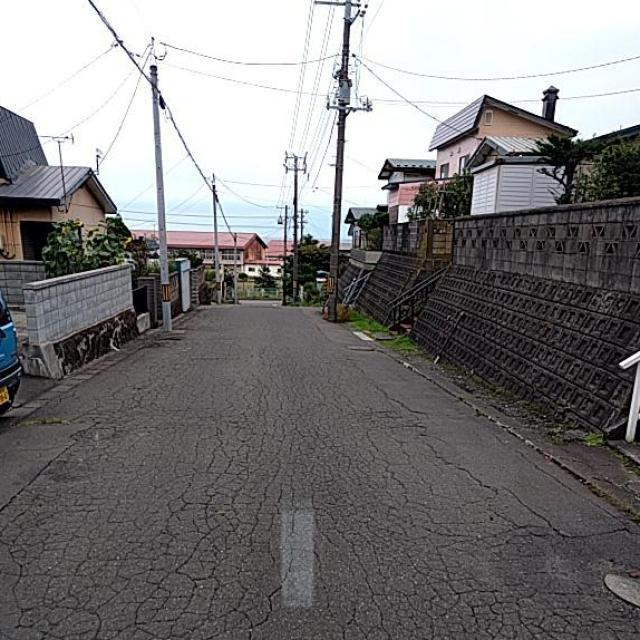Retak Buaya: (6, 360, 640, 640)
